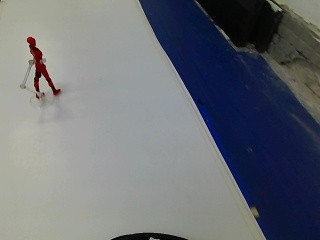pedestrian: (13, 34, 65, 104)
